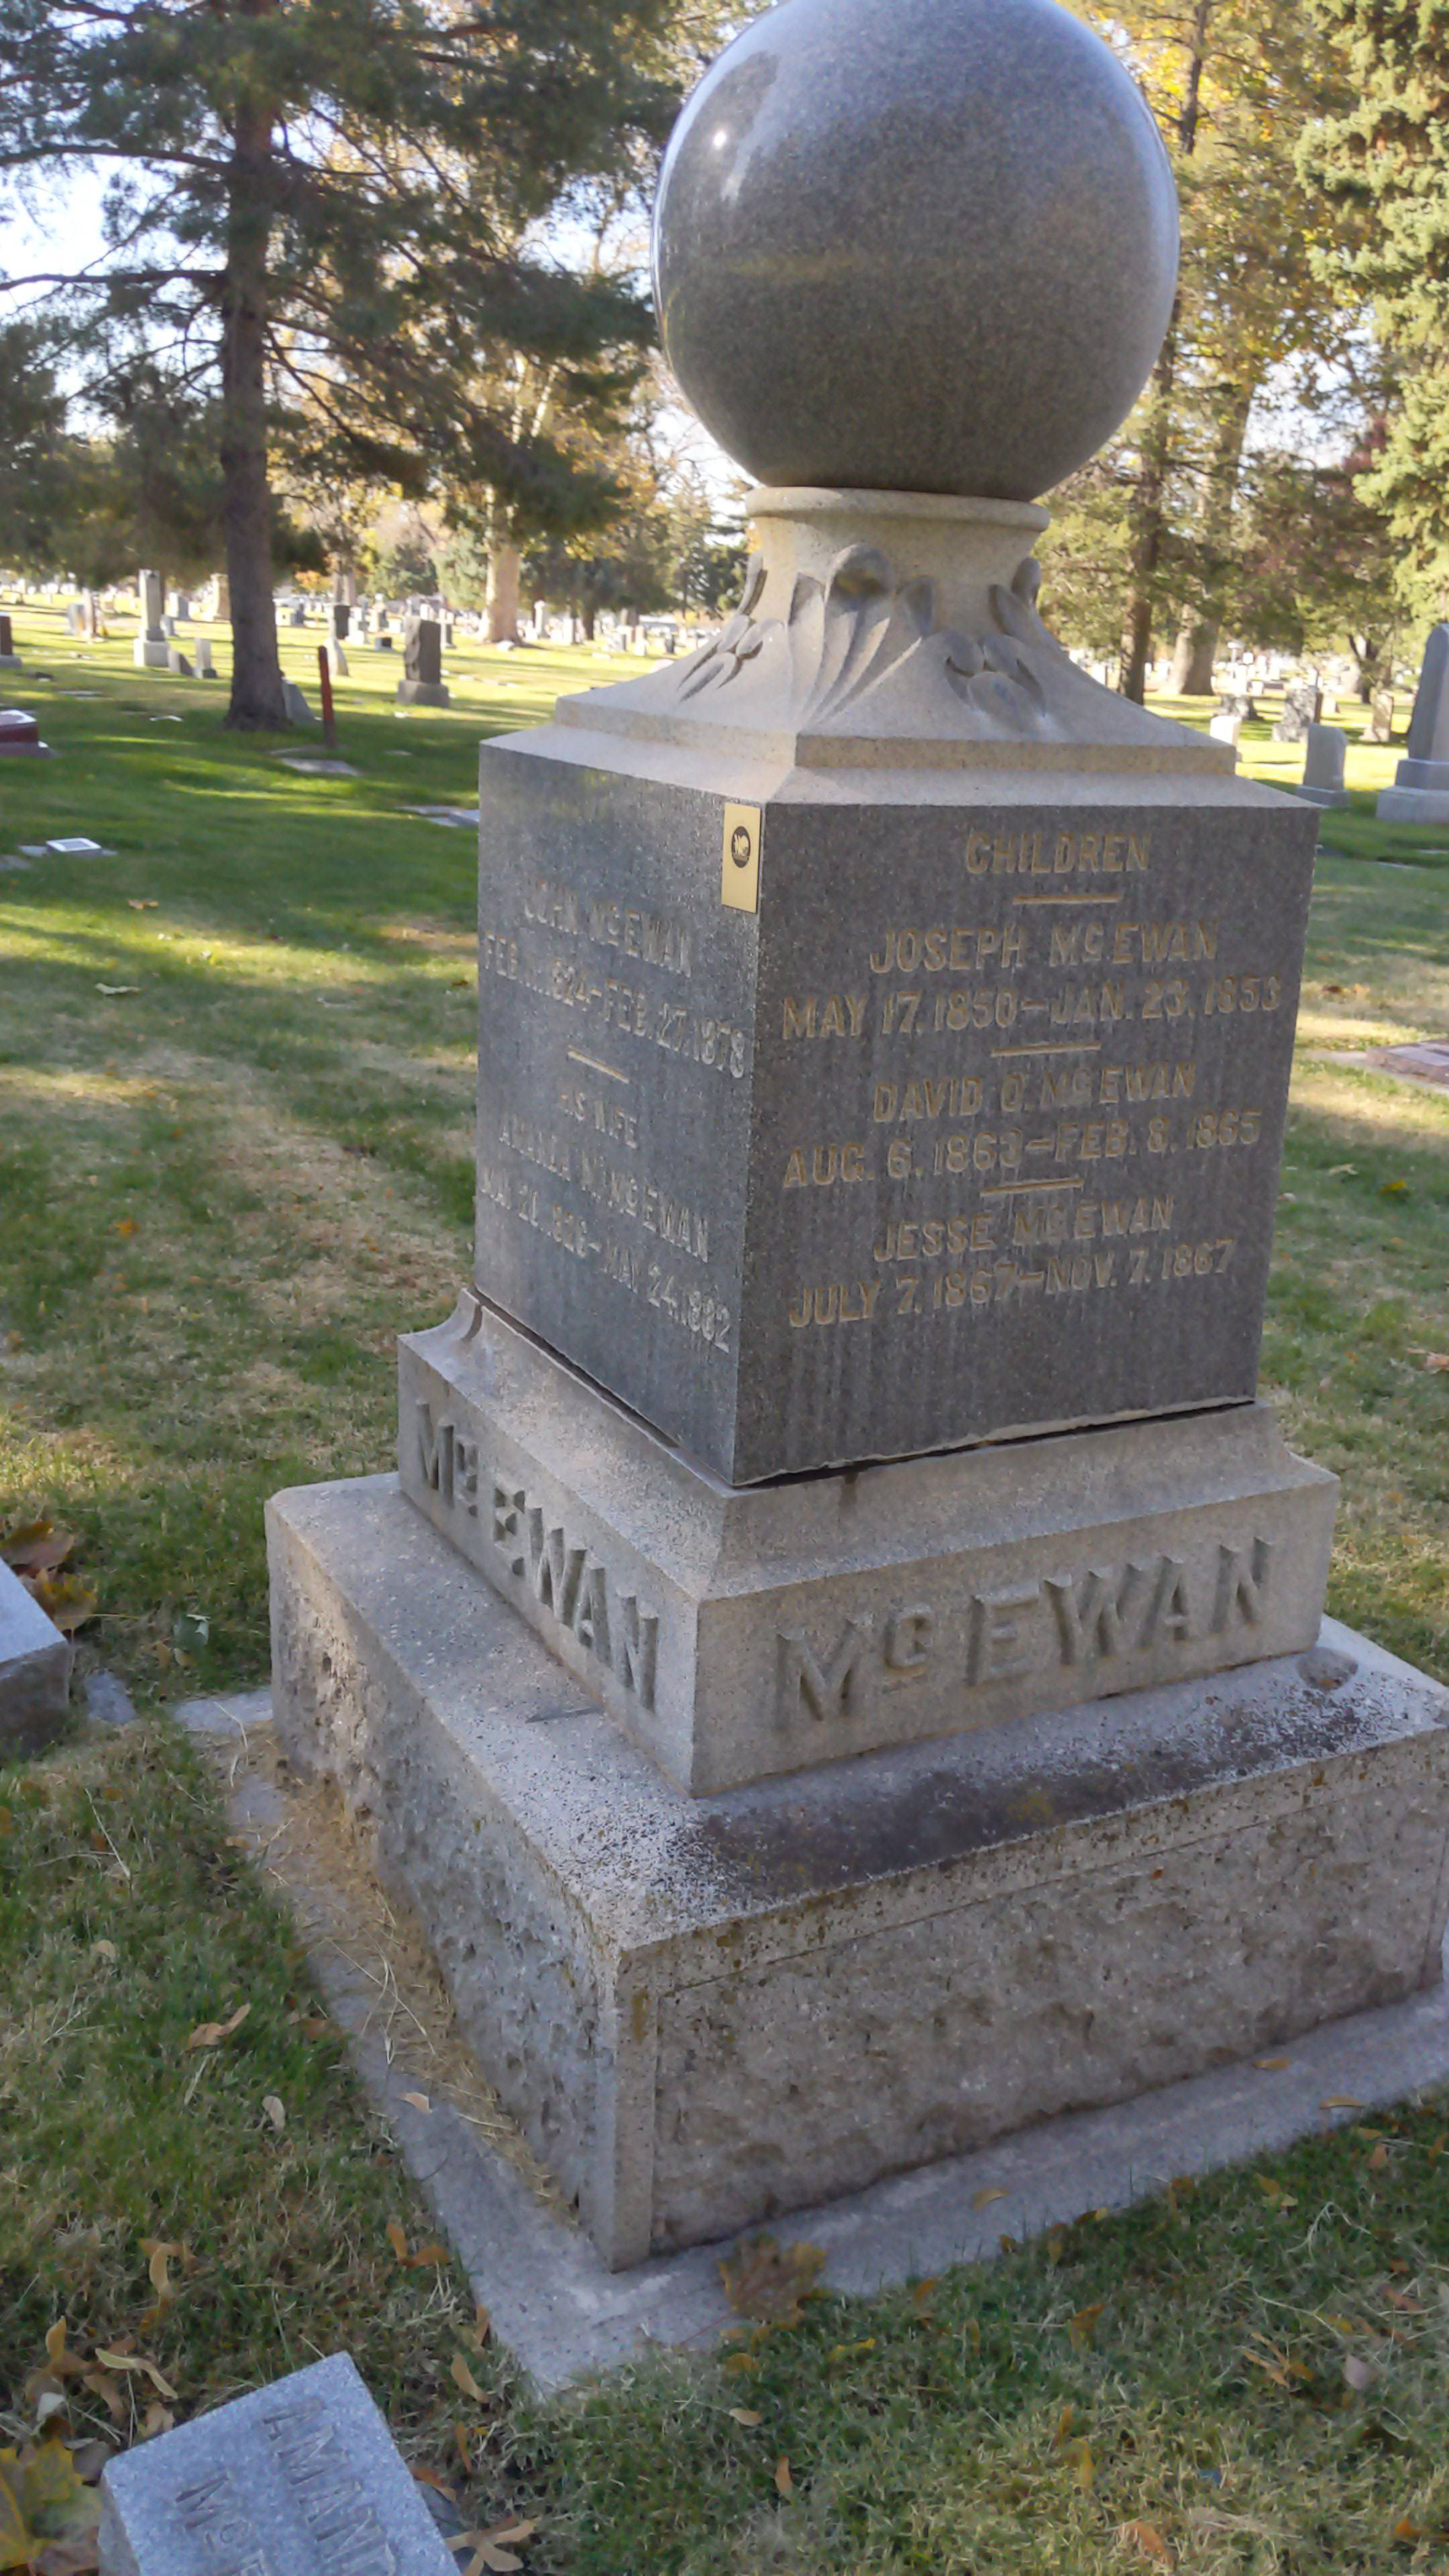obelisk: (386, 0, 1332, 1787)
